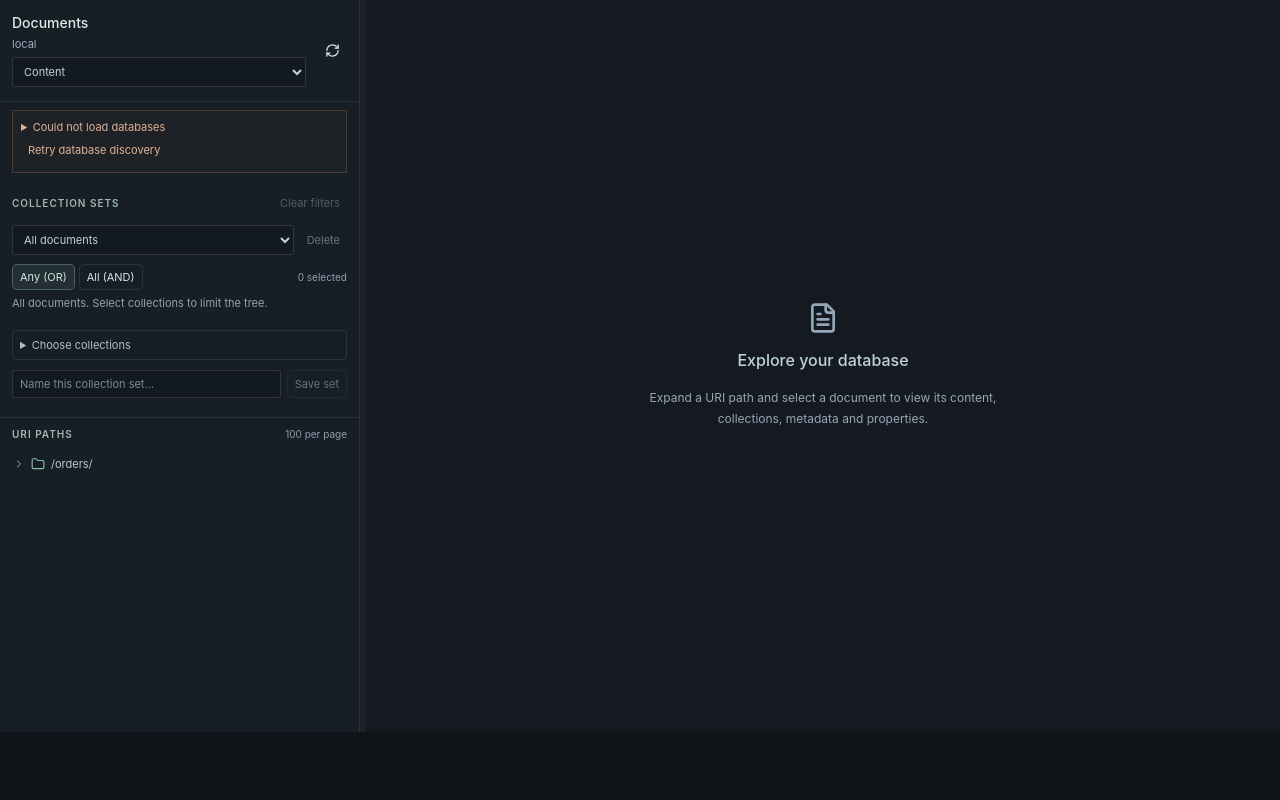
Test: Documents workspace › keeps the current database usable when database discovery fails
Step 1. Click the heading "Could not load databases" → click(99, 127), box top-left (33, 120), bottom-right (165, 134)
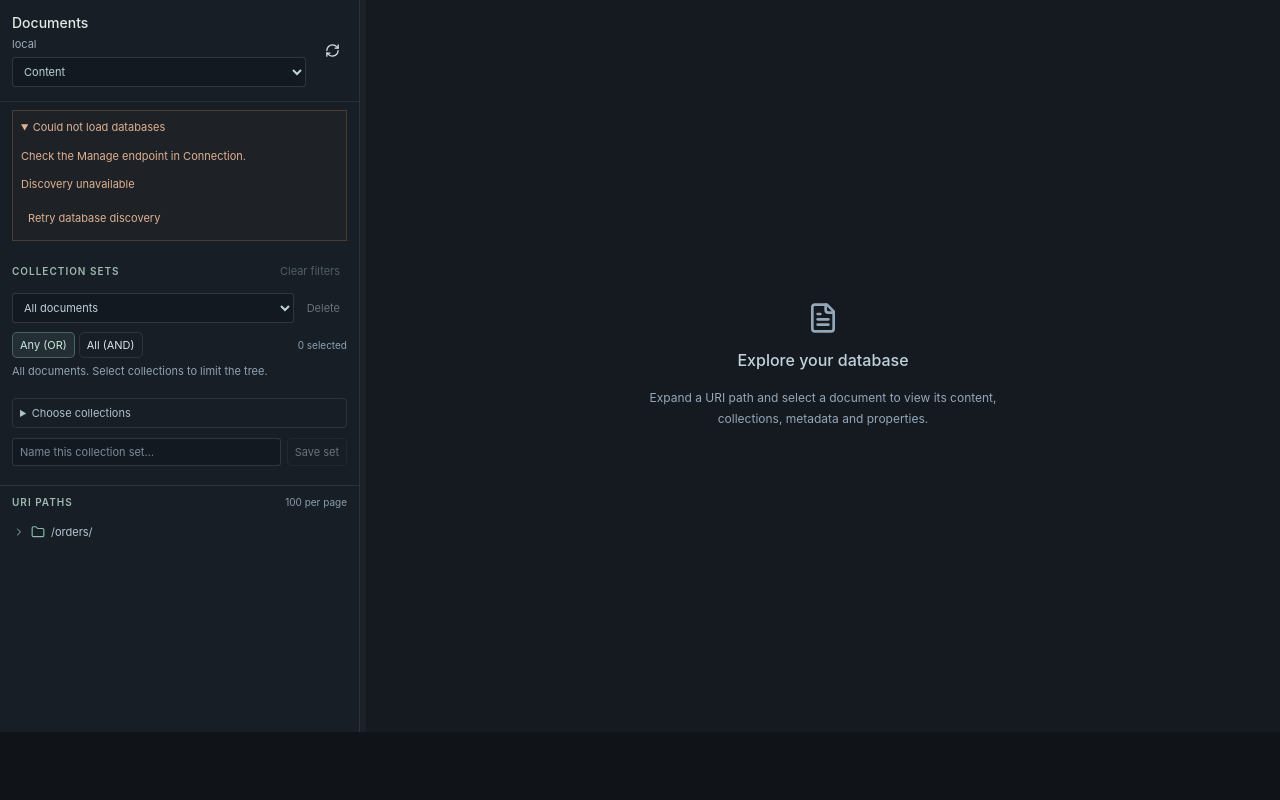
Check: the dropdown named "Document database" shows "Content", box top-left (12, 57), bottom-right (306, 87)
Check: the text "Discovery unavailable" is shown, box top-left (21, 177), bottom-right (135, 191)
